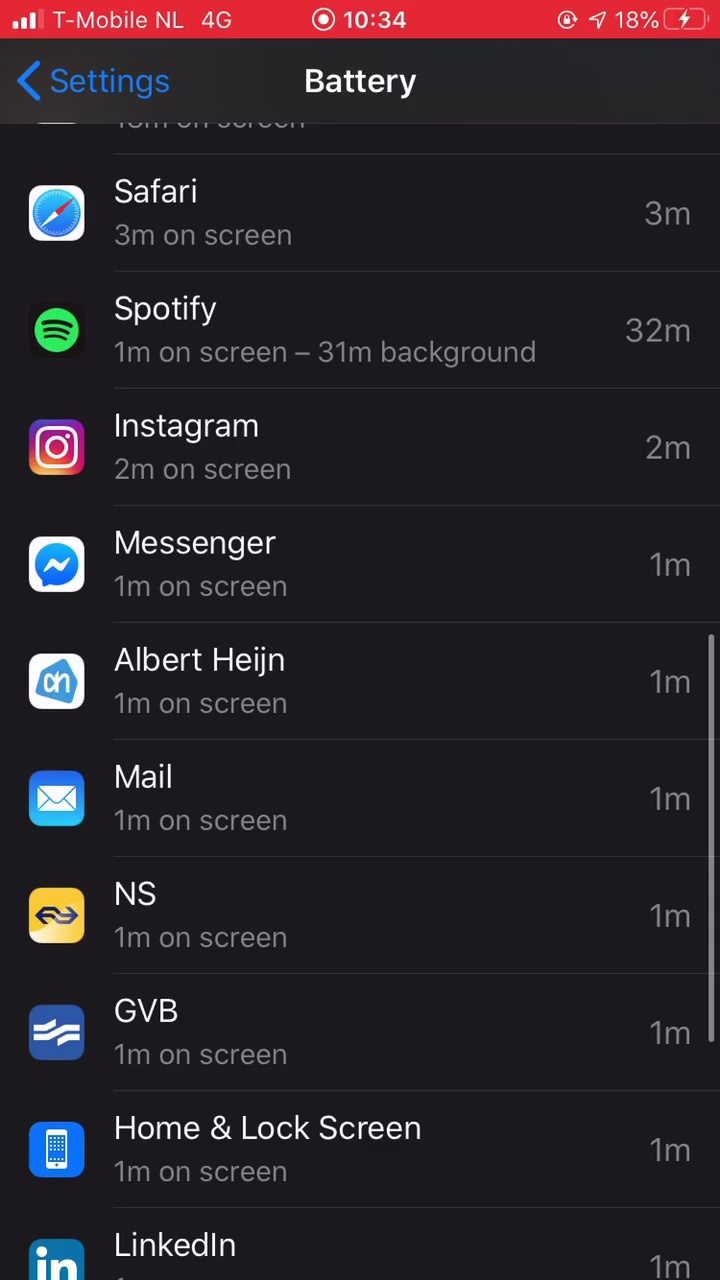app: (7, 163, 697, 258), (9, 281, 699, 376), (11, 395, 701, 490), (7, 514, 697, 609), (3, 638, 693, 733), (7, 749, 697, 844), (11, 867, 701, 962), (7, 987, 697, 1082), (12, 1105, 702, 1200)
